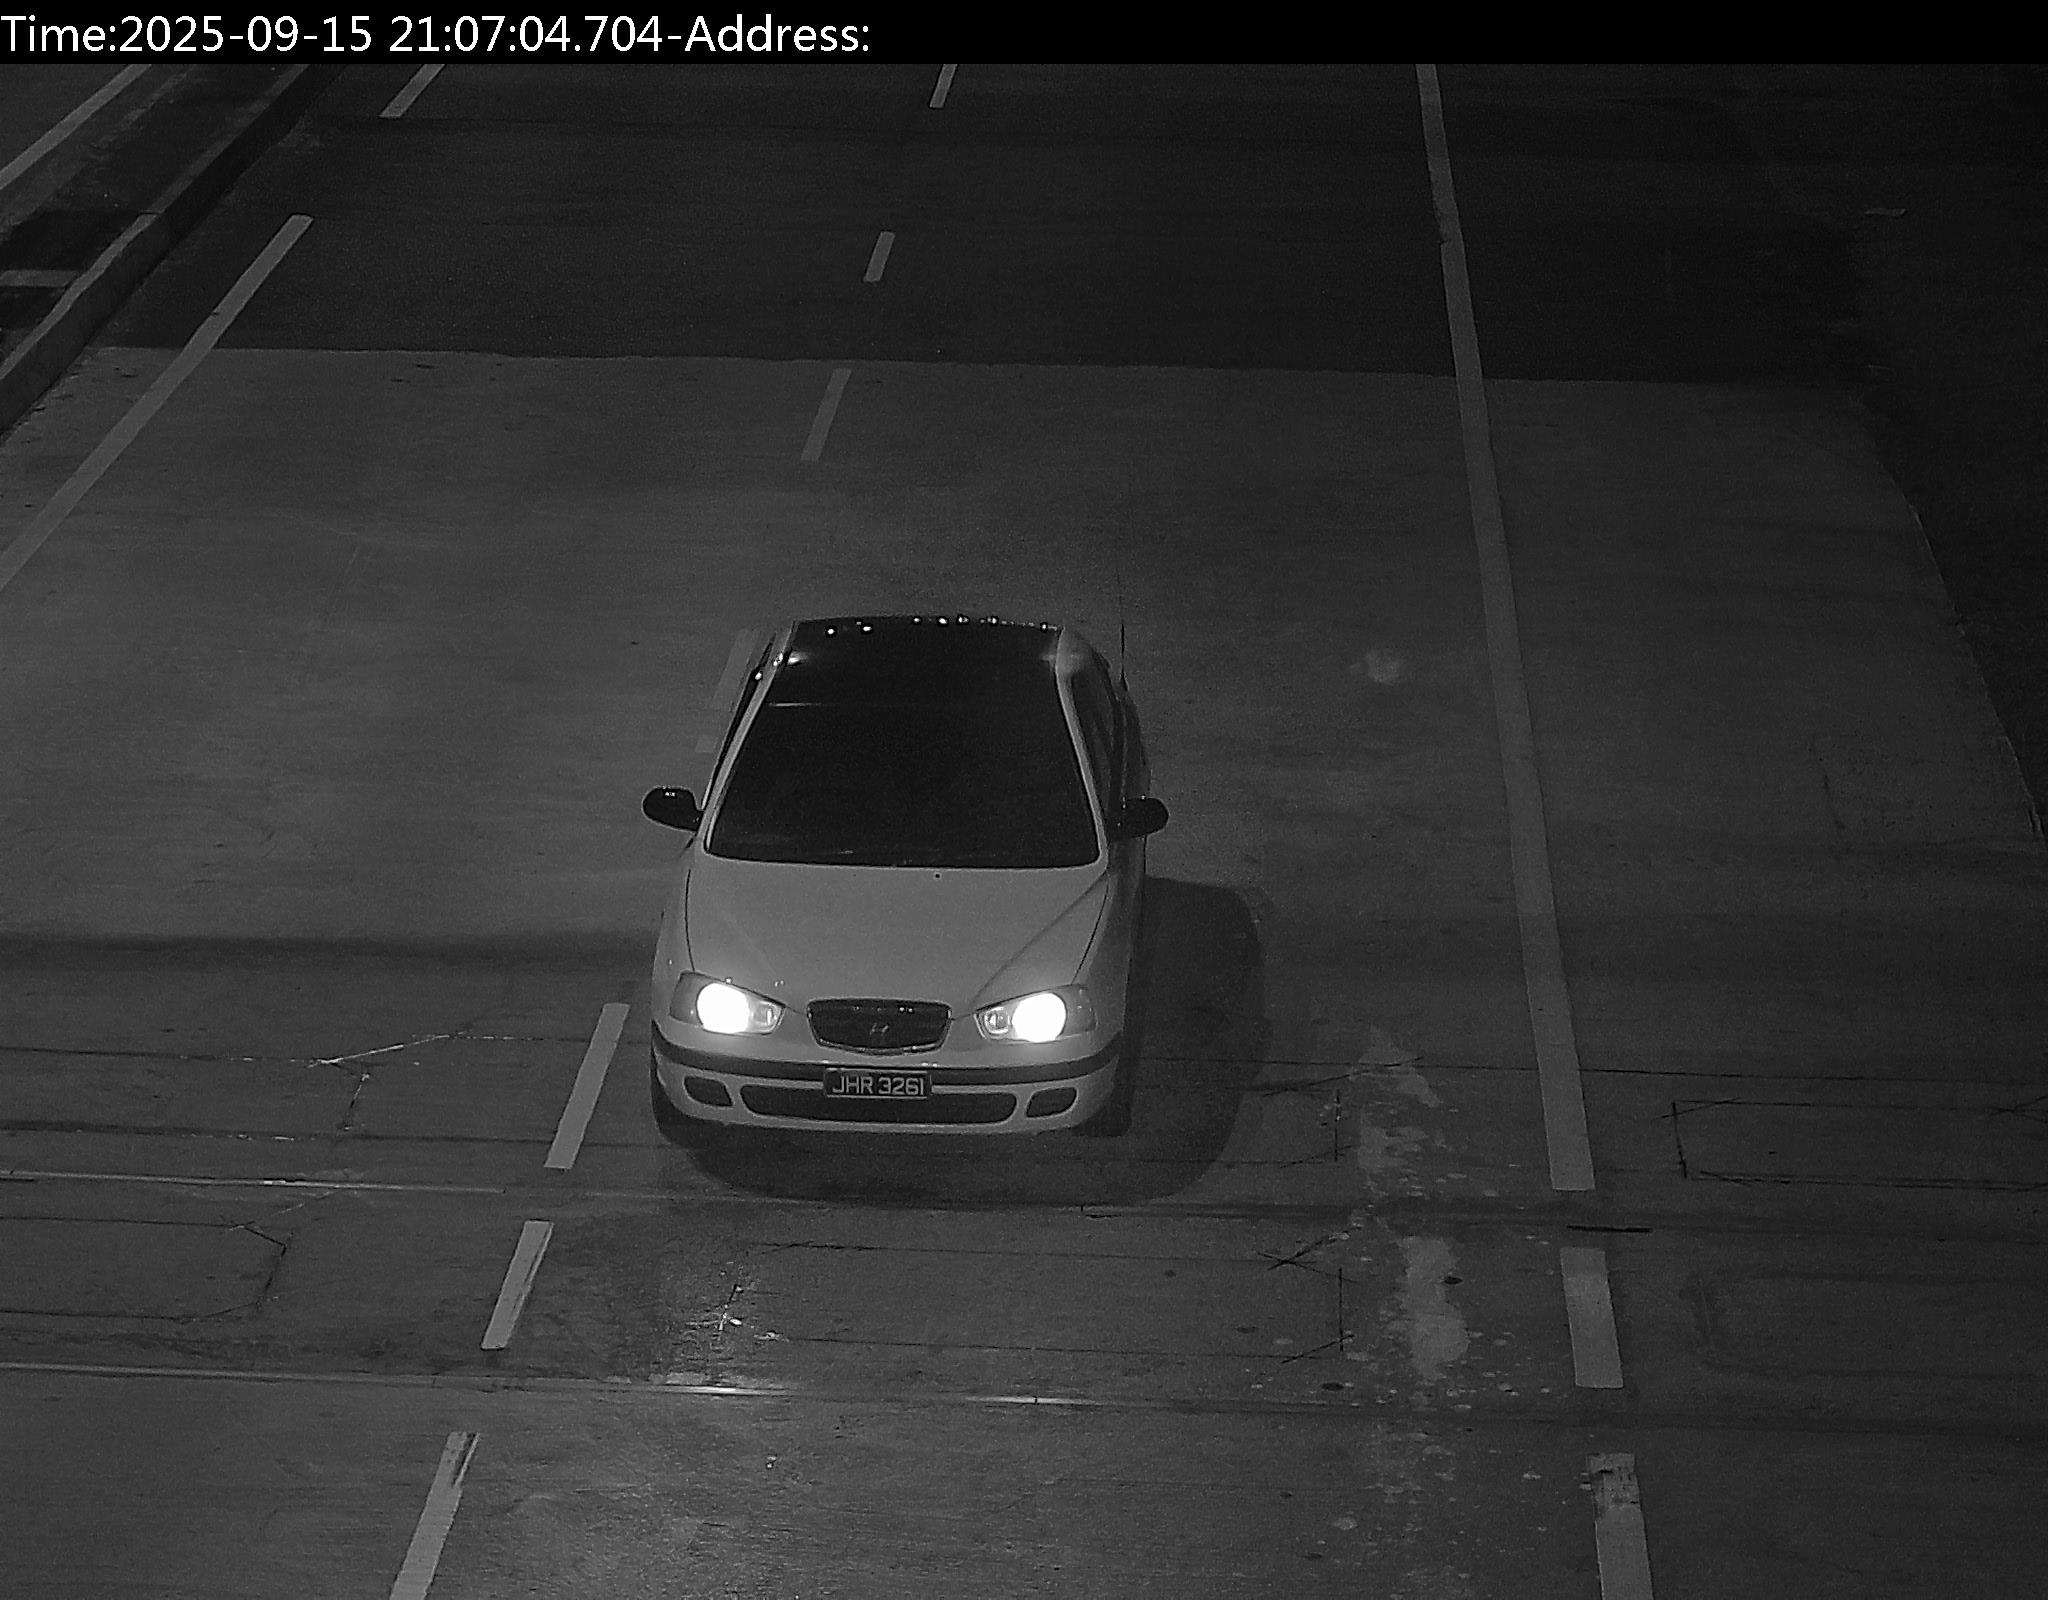non broken: (828, 1066, 931, 1104)
